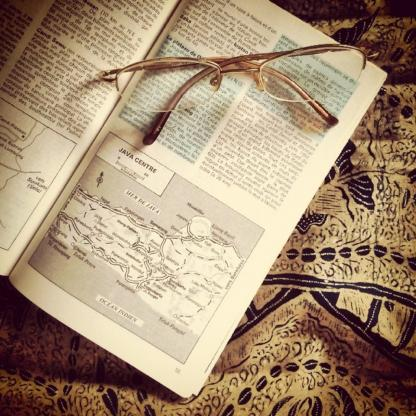book: (0, 0, 389, 402)
